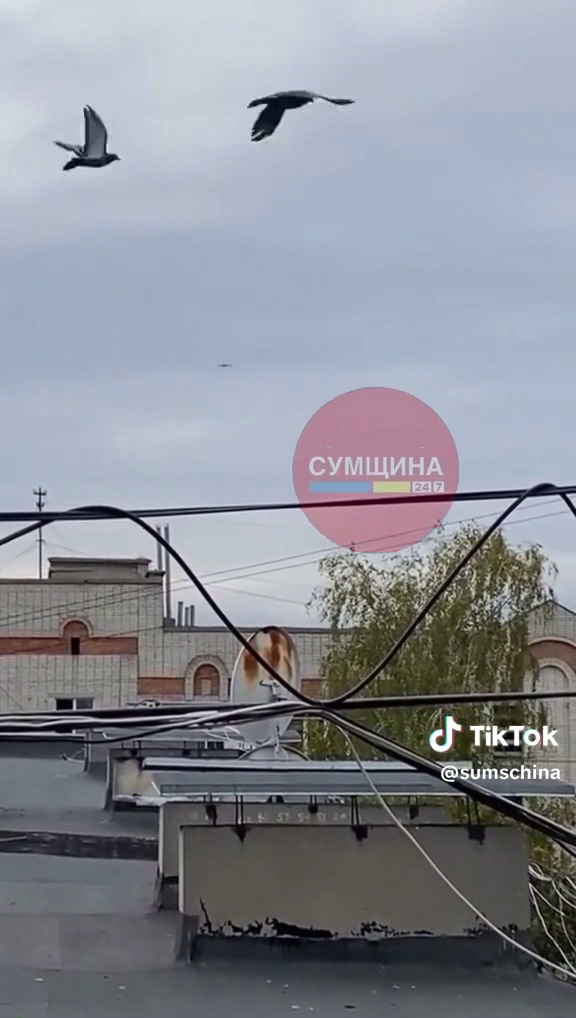not_drone: (248, 90, 354, 142), (53, 106, 120, 171)
shahed: (218, 363, 231, 369)
